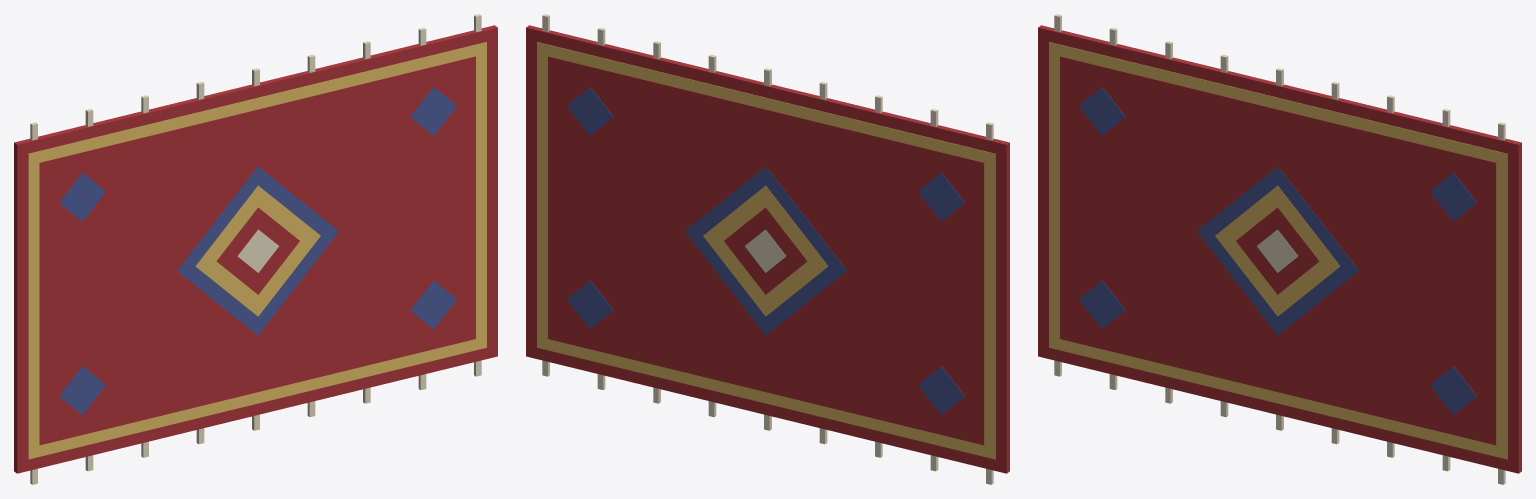
File: wall_carpet.glb
3 renders of one model, left to right at view 1: azimuth 30°, elevation 25°; view 2: azimuth 150°, elevation 25°; view 3: azimuth 330°, elevation 25°, orthographic.
Parts seen in each view (by area): view 1: wall_carpet; view 2: wall_carpet; view 3: wall_carpet.
Boxes of the visible parts, x1,y1,x2,y2 form: wall_carpet: [14, 14, 497, 484]; wall_carpet: [526, 14, 1009, 484]; wall_carpet: [1038, 14, 1521, 484].
Size of the model in its own units: 2.6 by 1.86 by 0.0454.
